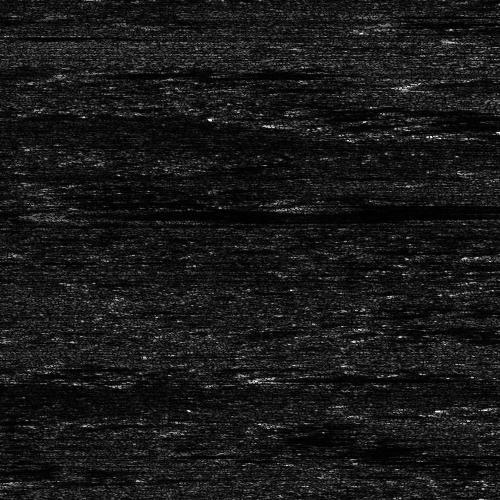object: (0, 206, 115, 219), (417, 32, 500, 45), (33, 66, 126, 77), (238, 371, 311, 382), (271, 202, 354, 211), (438, 165, 500, 176), (205, 85, 268, 90), (411, 131, 474, 136), (395, 19, 436, 26), (470, 252, 500, 261), (422, 81, 463, 86), (471, 23, 500, 30), (389, 114, 442, 117), (0, 32, 13, 37)
shadow: (53, 206, 392, 219), (275, 371, 431, 382), (312, 202, 500, 211), (0, 109, 146, 120), (80, 66, 183, 77), (237, 85, 346, 90), (0, 32, 94, 37), (475, 32, 500, 45), (442, 131, 500, 136), (416, 19, 457, 26), (475, 165, 500, 176), (416, 114, 500, 117), (443, 81, 483, 86), (0, 416, 21, 423), (492, 23, 500, 30)
